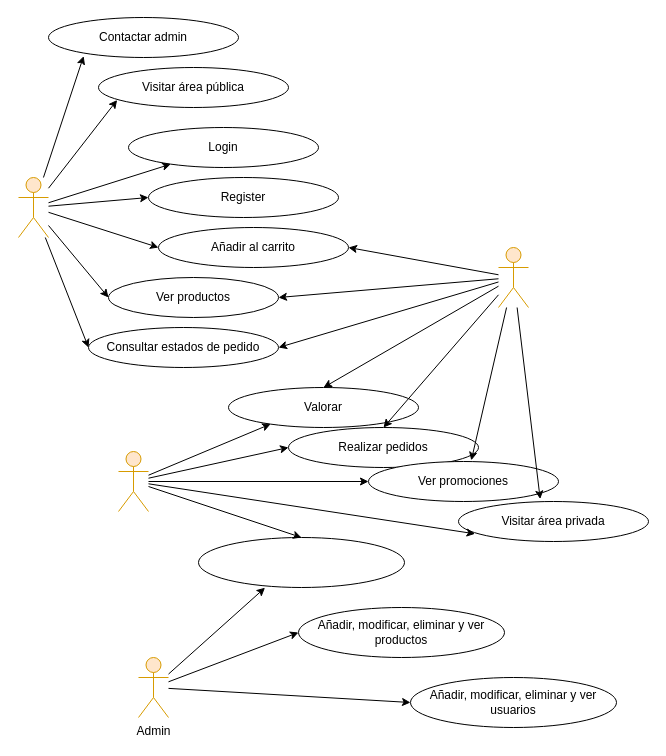
Some shapes in this 666 by 756 pixel diagram are drawn without their labels. Here are the shapes that lost their labels. From the top down, the box of each, then its label:
(18, 176, 48, 238): Guest
(498, 246, 528, 308): User-Client
(118, 450, 148, 512): User-Employee
(198, 536, 404, 588): Añadir, modificar, eliminar y ver pedidos
